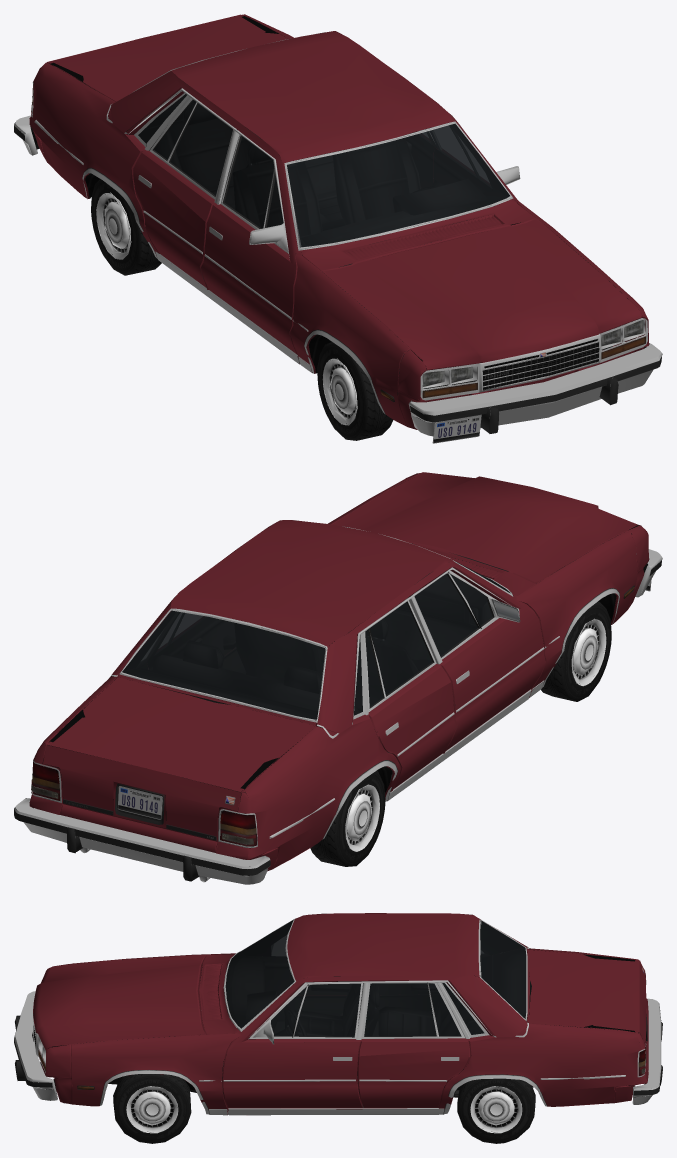
The model's file is fairheaven-lt-80.glb.
The picture shows the model from 3 angles, top to bottom: view 1: azimuth 30°, elevation 25°; view 2: azimuth 150°, elevation 25°; view 3: azimuth 270°, elevation 25°; orthographic projection. The views are drawn at different scales.
Visible parts, largest first — view 1: Fairheaven_LT80_body_Fairheaven_LT80_Bodymat_0; view 2: Fairheaven_LT80_body_Fairheaven_LT80_Bodymat_0; view 3: Fairheaven_LT80_body_Fairheaven_LT80_Bodymat_0.
Boxes of the visible parts, x1,y1,x2,y2 form: Fairheaven_LT80_body_Fairheaven_LT80_Bodymat_0: (14, 14, 662, 443); Fairheaven_LT80_body_Fairheaven_LT80_Bodymat_0: (14, 472, 662, 884); Fairheaven_LT80_body_Fairheaven_LT80_Bodymat_0: (14, 913, 662, 1143).
Size of the model in its own units: 1.65 by 1.21 by 4.5.
8 materials, 7 textured.
